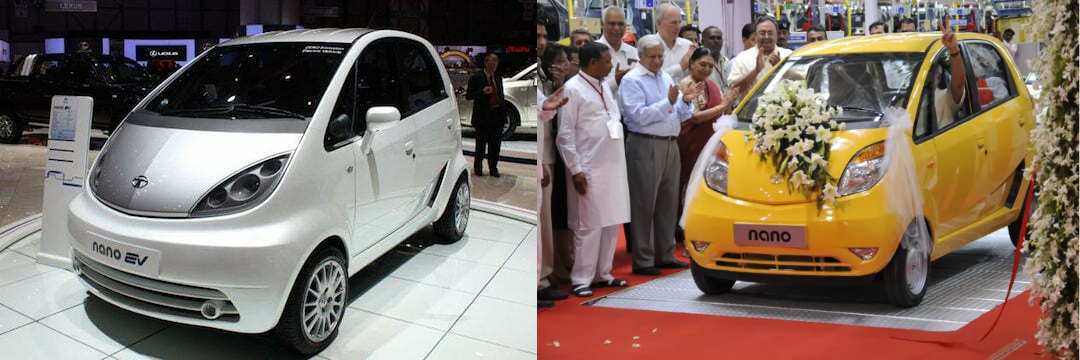Nano: (64, 23, 473, 355)
